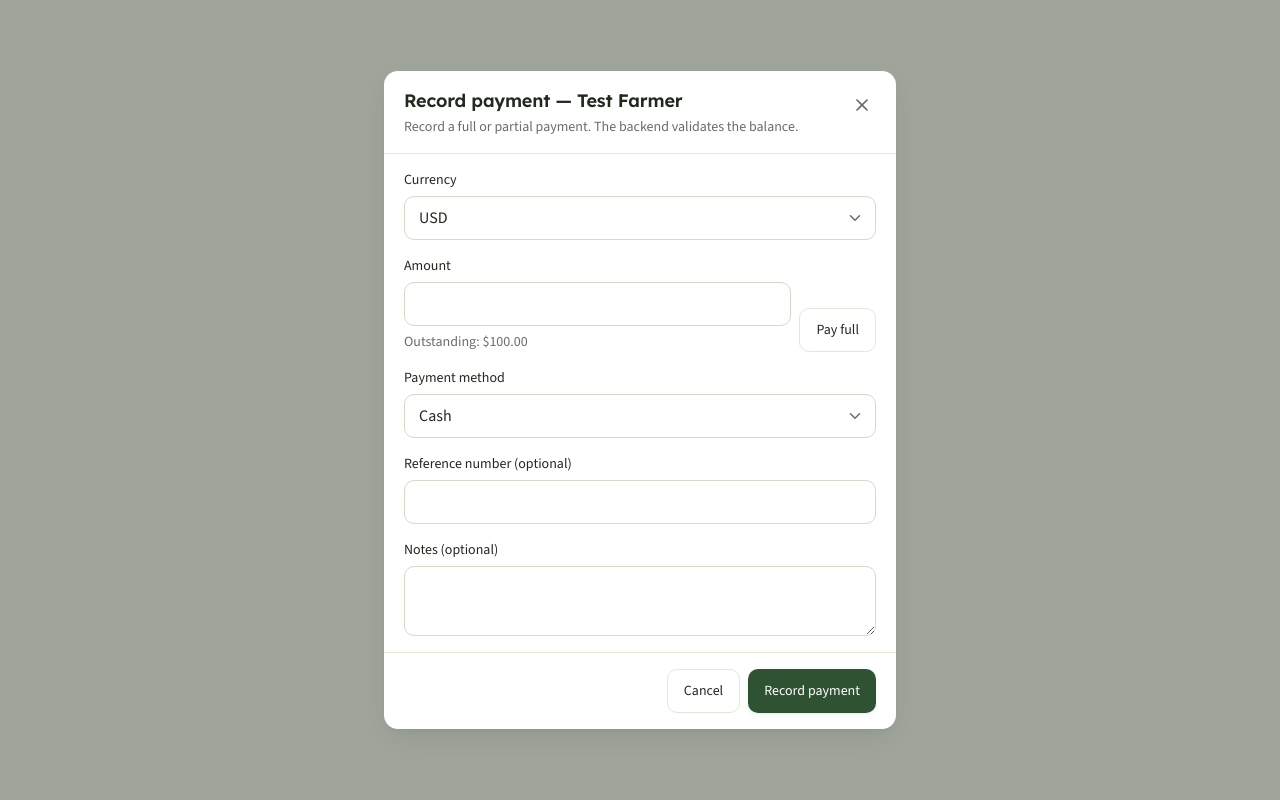
it: RecordPaymentModal › rejects an overpayment above the outstanding balance
The image size is (1280, 800).
Type "150" into the number field labelled "Amount".
click(598, 304); type("150")  # box [404, 282, 791, 326]
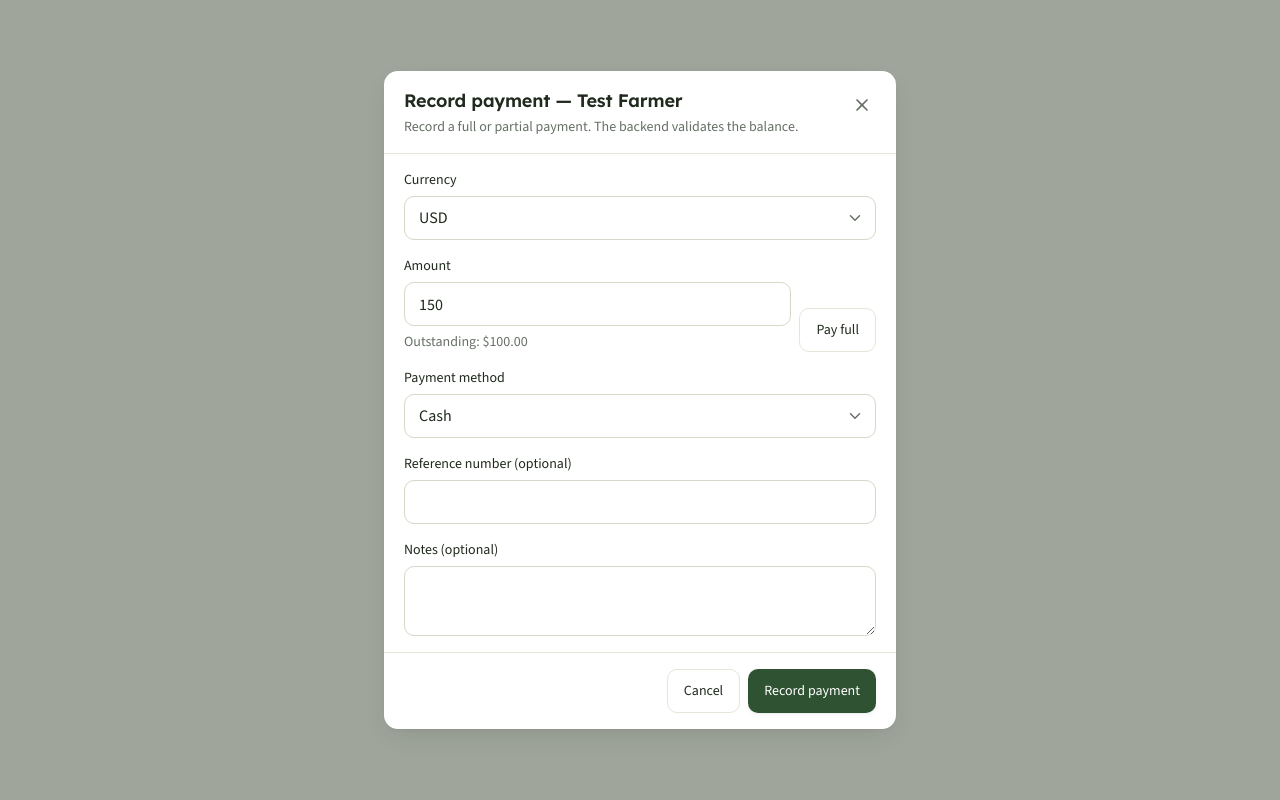
Click the button "Record payment".
click(812, 691)  # box [748, 669, 876, 713]
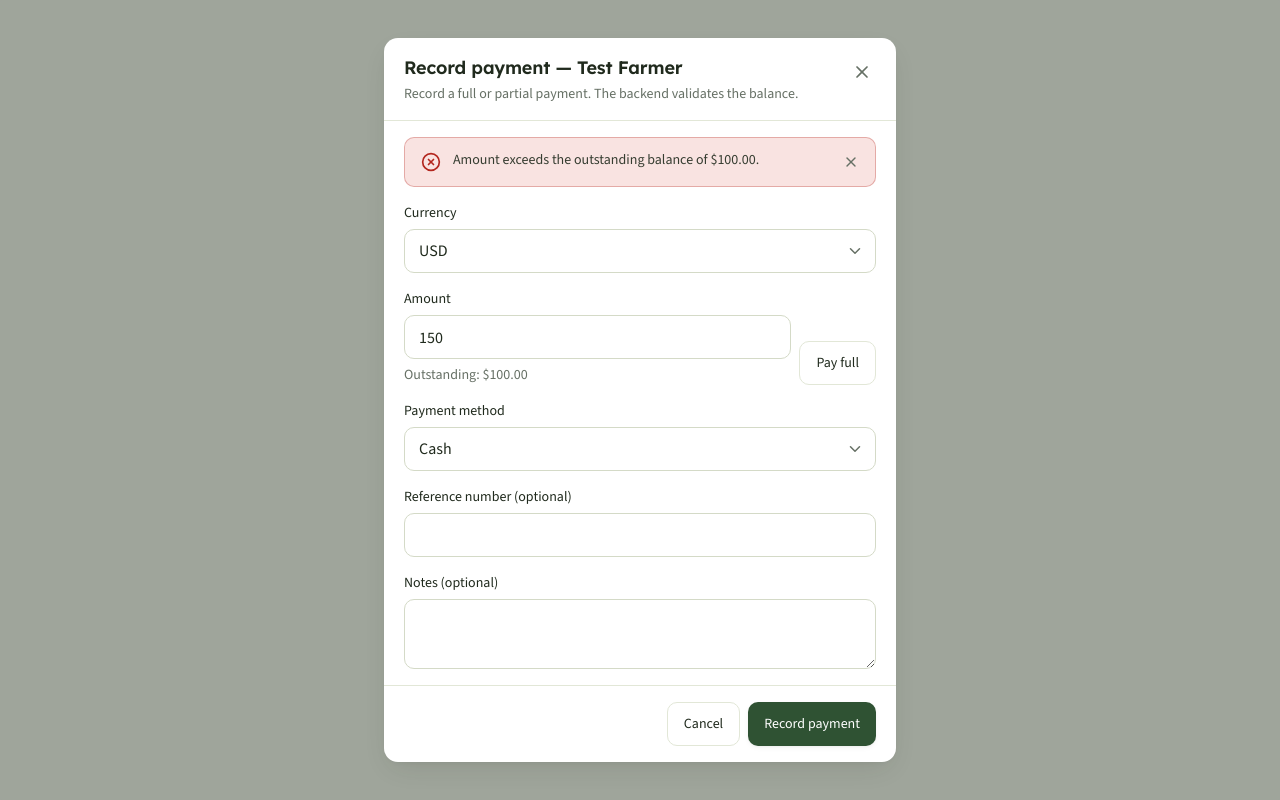
Result: the text "Amount exceeds the outstanding balance of $100.00." is shown at [453, 150, 759, 169]
